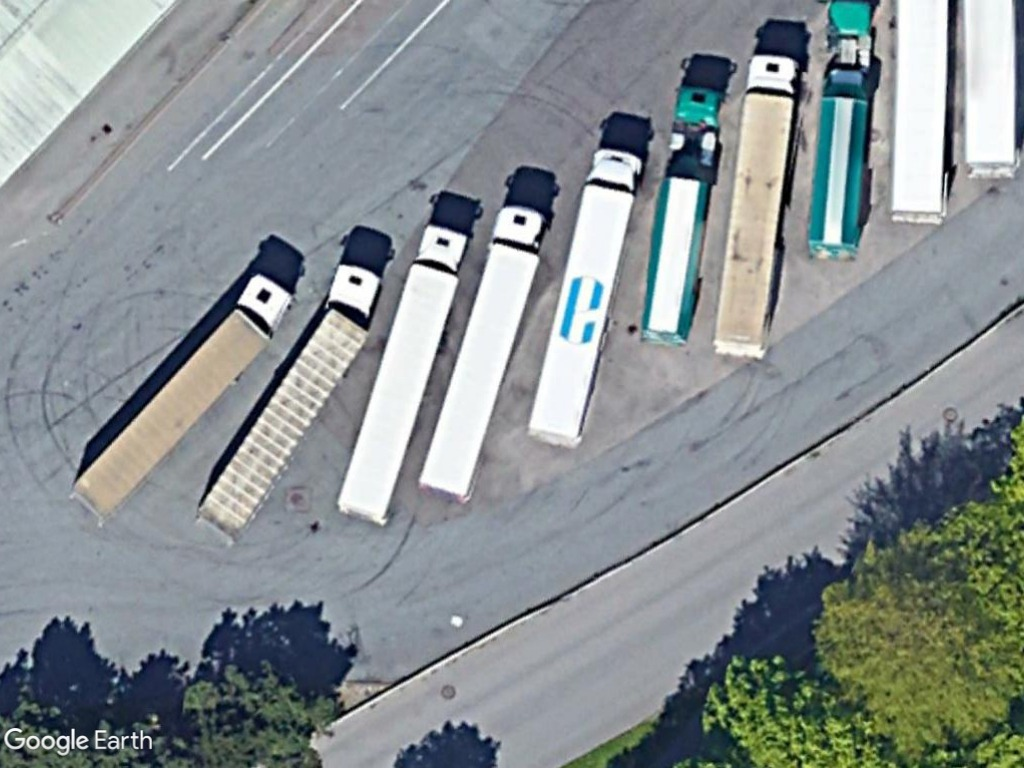longvehicle: (55, 260, 299, 522), (195, 259, 385, 544), (324, 220, 474, 540), (413, 196, 555, 515), (519, 141, 645, 451), (702, 40, 808, 373), (632, 81, 728, 349)
